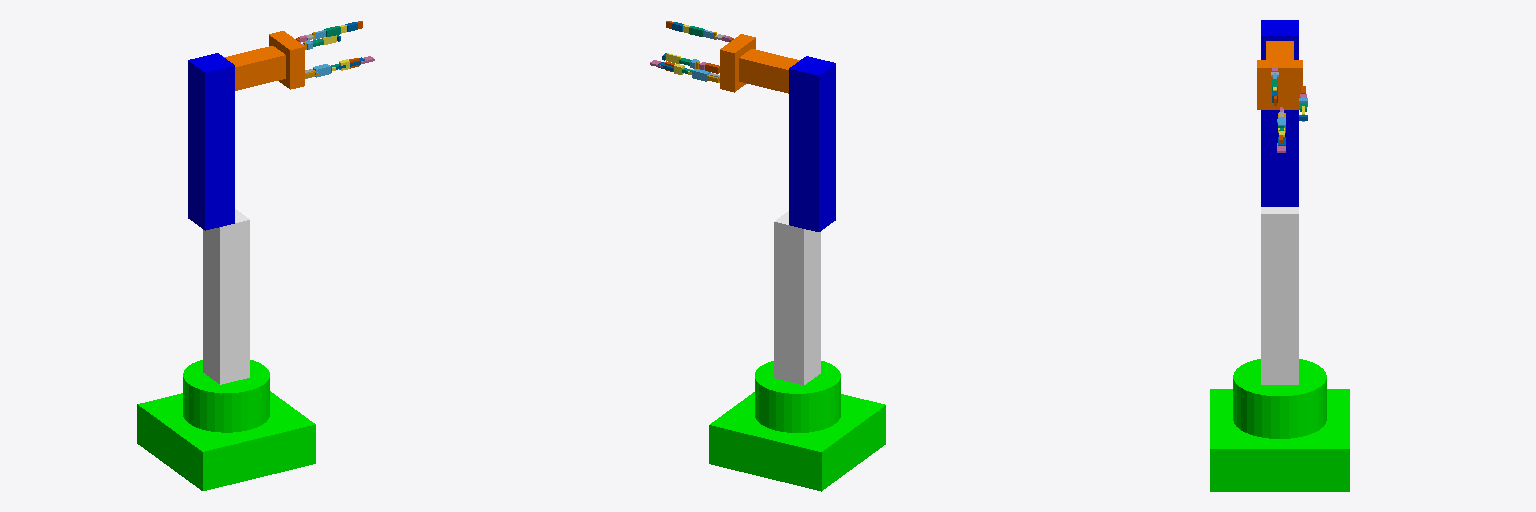
--- What the picture shows (computed from the rendered views, not written in the file) ---
Views: 3 orthographic renders of the robot side by side, from view 1: azimuth 30°, elevation 25°; view 2: azimuth 150°, elevation 25°; view 3: azimuth 270°, elevation 25°.
Model robot with 37 links and 36 joints (33 revolute, 1 continuous, 2 fixed), rooted at base_link, posed every joint at zero.
Links seen in each view (by area): view 1: base_link, arm_link, support_link, wrist_link, palm_link; view 2: base_link, arm_link, support_link, wrist_link, palm_link; view 3: base_link, support_link, arm_link, palm_link, wrist_link.
Boxes of the visible links, x1=… form: base_link: x1=137, y1=360, x2=315, y2=490; arm_link: x1=188, y1=53, x2=234, y2=230; support_link: x1=203, y1=209, x2=249, y2=384; wrist_link: x1=224, y1=46, x2=285, y2=90; palm_link: x1=269, y1=31, x2=304, y2=89; base_link: x1=709, y1=361, x2=885, y2=491; arm_link: x1=789, y1=56, x2=835, y2=231; support_link: x1=774, y1=211, x2=820, y2=385; wrist_link: x1=739, y1=49, x2=799, y2=93; palm_link: x1=720, y1=34, x2=755, y2=92; base_link: x1=1210, y1=359, x2=1349, y2=491; support_link: x1=1261, y1=207, x2=1298, y2=384; arm_link: x1=1261, y1=20, x2=1298, y2=206; palm_link: x1=1257, y1=60, x2=1302, y2=109; wrist_link: x1=1266, y1=41, x2=1293, y2=59.
Bounding box of the posed robot: 1.35 × 0.75 × 2.55 m (x, y, z).
Geometry: primitives only (box / cylinder / sphere), no mesh files.

The robot description file, URDF, robot "robot":
<?xml version='1.0' encoding='utf-8'?>
<robot name="robot">
  <link name="base_link">
    <visual>
      <origin xyz="0 0 0.125" rpy="0 0 0" />
      <geometry>
        <box size="0.75 0.75 0.25" />
      </geometry>
      <material name="green" />
    </visual>
    <visual>
      <origin xyz="0 0 0.375" rpy="0 0 0" />
      <geometry>
        <cylinder length="0.25" radius="0.25" />
      </geometry>
      <material name="green">
        <color rgba="0 1 0 1" />
      </material>
    </visual>
    <collision>
      <geometry>
        <box size="0.75 0.75 0.5" />
      </geometry>
    </collision>
    <inertial>
      <mass value="0.5" />
      <inertia ixx="0.034" ixy="0.0" ixz="0.0" iyy="0.034" iyz="0.0" izz="0.034" />
    </inertial>
  </link>
  <link name="support_link">
    <visual>
      <origin xyz="0 0 0.5" rpy="0 0 0" />
      <geometry>
        <box size="0.2 0.2 1" />
      </geometry>
      <material name="white">
        <color rgba="1 1 1 1" />
      </material>
    </visual>
    <collision>
      <geometry>
        <box size="0.2 0.2 1" />
      </geometry>
    </collision>
    <inertial>
      <mass value="0.1" />
      <inertia ixx="0.01" ixy="0.0" ixz="0.0" iyy="0.01" iyz="0.0" izz="0.01" />
    </inertial>
  </link>
  <joint name="support_joint" type="continuous">
    <origin xyz="0 0 0.5" rpy="0 0 0" />
    <parent link="base_link" />
    <child link="support_link" />
    <axis xyz="0 0 1" />
  </joint>
  <link name="arm_link">
    <visual>
      <origin xyz="0 0 0.5" rpy="0 0 0" />
      <geometry>
        <box size="0.2 0.2 1" />
      </geometry>
      <material name="blue">
        <color rgba="0 0 1 1" />
      </material>
    </visual>
    <collision>
      <geometry>
        <box size="0.2 0.2 1" />
      </geometry>
    </collision>
    <inertial>
      <mass value="0.1" />
      <inertia ixx="0.01" ixy="0.0" ixz="0.0" iyy="0.01" iyz="0.0" izz="0.01" />
    </inertial>
  </link>
  <joint name="arm_joint" type="revolute">
    <origin xyz="-0.1 0 1" rpy="0 0 0" />
    <parent link="support_link" />
    <child link="arm_link" />
    <axis xyz="0 1 0" />
    <limit lower="-3.14" upper="3.14" effort="1.0" velocity="1.0" />
  </joint>
  <link name="wrist_link">
    <visual>
      <origin xyz="0 0 0.25" rpy="0 0 0" />
      <geometry>
        <box size="0.15 0.15 0.5" />
      </geometry>
      <material name="orange">
        <color rgba="1 0.5 0 1" />
      </material>
    </visual>
    <collision>
      <geometry>
        <box size="0.15 0.15 0.5" />
      </geometry>
    </collision>
    <inertial>
      <mass value="0.1" />
      <inertia ixx="0.01" ixy="0.0" ixz="0.0" iyy="0.01" iyz="0.0" izz="0.01" />
    </inertial>
  </link>
  <joint name="wrist_joint" type="fixed">
    <origin xyz="0 0 0.9" rpy="0 1.571 0" />
    <parent link="arm_link" />
    <child link="wrist_link" />
  </joint>
  <link name="palm_link">
    <visual>
      <origin xyz="0 0 0.05" rpy="0 0 0" />
      <geometry>
        <box size="0.25 0.25 0.1" />
      </geometry>
      <material name="orange" />
    </visual>
    <collision>
      <geometry>
        <box size="0.25 0.25 0.1" />
      </geometry>
    </collision>
    <inertial>
      <mass value="0.1" />
      <inertia ixx="0.01" ixy="0.0" ixz="0.0" iyy="0.01" iyz="0.0" izz="0.01" />
    </inertial>
  </link>
  <joint name="palm_joint" type="fixed">
    <origin xyz="0 0 0.45" rpy="0 0 0" />
    <parent link="wrist_link" />
    <child link="palm_link" />
  </joint>
  <link name="finger_link_0_0">
    <visual>
      <origin xyz="0 0 0.0445" rpy="0 0 0" />
      <geometry>
        <box size="0.04 0.029 0.089" />
      </geometry>
    </visual>
    <collision>
      <geometry>
        <box size="0.04 0.029 0.089" />
      </geometry>
    </collision>
    <inertial>
      <mass value="0.031" />
      <inertia ixx="0.0" iyy="0.0" izz="0.0" ixy="0" ixz="0" iyz="0" />
    </inertial>
  </link>
  <joint name="finger_joint_palm_link_to_finger_link_0_0" type="revolute">
    <origin xyz="0.004 0.125 0.1" rpy="0 0 0" />
    <parent link="palm_link" />
    <child link="finger_link_0_0" />
    <axis xyz="-1.0 0.0 0.0" />
    <limit lower="-3.142" upper="3.142" effort="10" velocity="10" />
  </joint>
  <link name="finger_link_0_1">
    <visual>
      <origin xyz="0 0 0.0165" rpy="0 0 0" />
      <geometry>
        <box size="0.032 0.041 0.033" />
      </geometry>
    </visual>
    <collision>
      <geometry>
        <box size="0.032 0.041 0.033" />
      </geometry>
    </collision>
    <inertial>
      <mass value="0.013" />
      <inertia ixx="0.0" iyy="0.0" izz="0.0" ixy="0" ixz="0" iyz="0" />
    </inertial>
  </link>
  <joint name="finger_joint_finger_link_0_0_to_finger_link_0_1" type="revolute">
    <origin xyz="0.0 0.0 0.089" rpy="0 0 0" />
    <parent link="finger_link_0_0" />
    <child link="finger_link_0_1" />
    <axis xyz="0.0 1.0 0.0" />
    <limit lower="-3.142" upper="3.142" effort="10" velocity="10" />
  </joint>
  <link name="finger_link_0_2">
    <visual>
      <origin xyz="0 0 0.0065" rpy="0 0 0" />
      <geometry>
        <box size="0.024 0.014 0.013" />
      </geometry>
    </visual>
    <collision>
      <geometry>
        <box size="0.024 0.014 0.013" />
      </geometry>
    </collision>
    <inertial>
      <mass value="0.001" />
      <inertia ixx="0.0" iyy="0.0" izz="0.0" ixy="0" ixz="0" iyz="0" />
    </inertial>
  </link>
  <joint name="finger_joint_finger_link_0_1_to_finger_link_0_2" type="revolute">
    <origin xyz="0.0 0.0 0.033" rpy="0 0 0" />
    <parent link="finger_link_0_1" />
    <child link="finger_link_0_2" />
    <axis xyz="1.0 0.0 0.0" />
    <limit lower="-3.142" upper="3.142" effort="10" velocity="10" />
  </joint>
  <link name="finger_link_0_3">
    <visual>
      <origin xyz="0 0 0.0065" rpy="0 0 0" />
      <geometry>
        <box size="0.04 0.025 0.013" />
      </geometry>
    </visual>
    <collision>
      <geometry>
        <box size="0.04 0.025 0.013" />
      </geometry>
    </collision>
    <inertial>
      <mass value="0.004" />
      <inertia ixx="0.0" iyy="0.0" izz="0.0" ixy="0" ixz="0" iyz="0" />
    </inertial>
  </link>
  <joint name="finger_joint_finger_link_0_2_to_finger_link_0_3" type="revolute">
    <origin xyz="0.0 0.0 0.013" rpy="0 0 0" />
    <parent link="finger_link_0_2" />
    <child link="finger_link_0_3" />
    <axis xyz="0.0 1.0 0.0" />
    <limit lower="-3.142" upper="3.142" effort="10" velocity="10" />
  </joint>
  <link name="finger_link_0_4">
    <visual>
      <origin xyz="0 0 0.0175" rpy="0 0 0" />
      <geometry>
        <box size="0.037 0.048 0.035" />
      </geometry>
    </visual>
    <collision>
      <geometry>
        <box size="0.037 0.048 0.035" />
      </geometry>
    </collision>
    <inertial>
      <mass value="0.019" />
      <inertia ixx="0.0" iyy="0.0" izz="0.0" ixy="0" ixz="0" iyz="0" />
    </inertial>
  </link>
  <joint name="finger_joint_finger_link_0_3_to_finger_link_0_4" type="revolute">
    <origin xyz="0.0 0.0 0.013" rpy="0 0 0" />
    <parent link="finger_link_0_3" />
    <child link="finger_link_0_4" />
    <axis xyz="1.0 1.0 0.0" />
    <limit lower="-3.142" upper="3.142" effort="10" velocity="10" />
  </joint>
  <link name="finger_link_0_5">
    <visual>
      <origin xyz="0 0 0.038" rpy="0 0 0" />
      <geometry>
        <box size="0.021 0.039 0.076" />
      </geometry>
    </visual>
    <collision>
      <geometry>
        <box size="0.021 0.039 0.076" />
      </geometry>
    </collision>
    <inertial>
      <mass value="0.019" />
      <inertia ixx="0.0" iyy="0.0" izz="0.0" ixy="0" ixz="0" iyz="0" />
    </inertial>
  </link>
  <joint name="finger_joint_finger_link_0_4_to_finger_link_0_5" type="revolute">
    <origin xyz="0.0 0.0 0.035" rpy="0 0 0" />
    <parent link="finger_link_0_4" />
    <child link="finger_link_0_5" />
    <axis xyz="0.0 1.0 0.0" />
    <limit lower="-3.142" upper="3.142" effort="10" velocity="10" />
  </joint>
  <link name="finger_link_0_6">
    <visual>
      <origin xyz="0 0 0.0465" rpy="0 0 0" />
      <geometry>
        <box size="0.046 0.012 0.093" />
      </geometry>
    </visual>
    <collision>
      <geometry>
        <box size="0.046 0.012 0.093" />
      </geometry>
    </collision>
    <inertial>
      <mass value="0.015" />
      <inertia ixx="0.0" iyy="0.0" izz="0.0" ixy="0" ixz="0" iyz="0" />
    </inertial>
  </link>
  <joint name="finger_joint_finger_link_0_5_to_finger_link_0_6" type="revolute">
    <origin xyz="0.0 0.0 0.076" rpy="0 0 0" />
    <parent link="finger_link_0_5" />
    <child link="finger_link_0_6" />
    <axis xyz="0.0 1.0 0.0" />
    <limit lower="-3.142" upper="3.142" effort="10" velocity="10" />
  </joint>
  <link name="finger_link_0_7">
    <visual>
      <origin xyz="0 0 0.0085" rpy="0 0 0" />
      <geometry>
        <box size="0.027 0.048 0.017" />
      </geometry>
    </visual>
    <collision>
      <geometry>
        <box size="0.027 0.048 0.017" />
      </geometry>
    </collision>
    <inertial>
      <mass value="0.007" />
      <inertia ixx="0.0" iyy="0.0" izz="0.0" ixy="0" ixz="0" iyz="0" />
    </inertial>
  </link>
  <joint name="finger_joint_finger_link_0_6_to_finger_link_0_7" type="revolute">
    <origin xyz="0.0 0.0 0.093" rpy="0 0 0" />
    <parent link="finger_link_0_6" />
    <child link="finger_link_0_7" />
    <axis xyz="1.0 1.0 0.0" />
    <limit lower="-3.142" upper="3.142" effort="10" velocity="10" />
  </joint>
  <link name="finger_link_1_0">
    <visual>
      <origin xyz="0 0 0.0075" rpy="0 0 0" />
      <geometry>
        <box size="0.013 0.028 0.015" />
      </geometry>
    </visual>
    <collision>
      <geometry>
        <box size="0.013 0.028 0.015" />
      </geometry>
    </collision>
    <inertial>
      <mass value="0.002" />
      <inertia ixx="0.0" iyy="0.0" izz="0.0" ixy="0" ixz="0" iyz="0" />
    </inertial>
  </link>
  <joint name="finger_joint_palm_link_to_finger_link_1_0" type="revolute">
    <origin xyz="-0.125 -0.026 0.1" rpy="0 0 0" />
    <parent link="palm_link" />
    <child link="finger_link_1_0" />
    <axis xyz="0.0 -1.0 0.0" />
    <limit lower="-3.142" upper="3.142" effort="10" velocity="10" />
  </joint>
  <link name="finger_link_1_1">
    <visual>
      <origin xyz="0 0 0.023" rpy="0 0 0" />
      <geometry>
        <box size="0.025 0.028 0.046" />
      </geometry>
    </visual>
    <collision>
      <geometry>
        <box size="0.025 0.028 0.046" />
      </geometry>
    </collision>
    <inertial>
      <mass value="0.01" />
      <inertia ixx="0.0" iyy="0.0" izz="0.0" ixy="0" ixz="0" iyz="0" />
    </inertial>
  </link>
  <joint name="finger_joint_finger_link_1_0_to_finger_link_1_1" type="revolute">
    <origin xyz="0.0 0.0 0.015" rpy="0 0 0" />
    <parent link="finger_link_1_0" />
    <child link="finger_link_1_1" />
    <axis xyz="1.0 1.0 0.0" />
    <limit lower="-3.142" upper="3.142" effort="10" velocity="10" />
  </joint>
  <link name="finger_link_1_2">
    <visual>
      <origin xyz="0 0 0.023" rpy="0 0 0" />
      <geometry>
        <box size="0.012 0.044 0.046" />
      </geometry>
    </visual>
    <collision>
      <geometry>
        <box size="0.012 0.044 0.046" />
      </geometry>
    </collision>
    <inertial>
      <mass value="0.007" />
      <inertia ixx="0.0" iyy="0.0" izz="0.0" ixy="0" ixz="0" iyz="0" />
    </inertial>
  </link>
  <joint name="finger_joint_finger_link_1_1_to_finger_link_1_2" type="revolute">
    <origin xyz="0.0 0.0 0.046" rpy="0 0 0" />
    <parent link="finger_link_1_1" />
    <child link="finger_link_1_2" />
    <axis xyz="1.0 0.0 0.0" />
    <limit lower="-3.142" upper="3.142" effort="10" velocity="10" />
  </joint>
  <link name="finger_link_1_3">
    <visual>
      <origin xyz="0 0 0.007" rpy="0 0 0" />
      <geometry>
        <box size="0.043 0.013 0.014" />
      </geometry>
    </visual>
    <collision>
      <geometry>
        <box size="0.043 0.013 0.014" />
      </geometry>
    </collision>
    <inertial>
      <mass value="0.002" />
      <inertia ixx="0.0" iyy="0.0" izz="0.0" ixy="0" ixz="0" iyz="0" />
    </inertial>
  </link>
  <joint name="finger_joint_finger_link_1_2_to_finger_link_1_3" type="revolute">
    <origin xyz="0.0 0.0 0.046" rpy="0 0 0" />
    <parent link="finger_link_1_2" />
    <child link="finger_link_1_3" />
    <axis xyz="1.0 0.0 0.0" />
    <limit lower="-3.142" upper="3.142" effort="10" velocity="10" />
  </joint>
  <link name="finger_link_1_4">
    <visual>
      <origin xyz="0 0 0.035" rpy="0 0 0" />
      <geometry>
        <box size="0.037 0.019 0.07" />
      </geometry>
    </visual>
    <collision>
      <geometry>
        <box size="0.037 0.019 0.07" />
      </geometry>
    </collision>
    <inertial>
      <mass value="0.015" />
      <inertia ixx="0.0" iyy="0.0" izz="0.0" ixy="0" ixz="0" iyz="0" />
    </inertial>
  </link>
  <joint name="finger_joint_finger_link_1_3_to_finger_link_1_4" type="revolute">
    <origin xyz="0.0 0.0 0.014" rpy="0 0 0" />
    <parent link="finger_link_1_3" />
    <child link="finger_link_1_4" />
    <axis xyz="0.0 1.0 0.0" />
    <limit lower="-3.142" upper="3.142" effort="10" velocity="10" />
  </joint>
  <link name="finger_link_1_5">
    <visual>
      <origin xyz="0 0 0.0465" rpy="0 0 0" />
      <geometry>
        <box size="0.043 0.029 0.093" />
      </geometry>
    </visual>
    <collision>
      <geometry>
        <box size="0.043 0.029 0.093" />
      </geometry>
    </collision>
    <inertial>
      <mass value="0.035" />
      <inertia ixx="0.0" iyy="0.0" izz="0.0" ixy="0" ixz="0" iyz="0" />
    </inertial>
  </link>
  <joint name="finger_joint_finger_link_1_4_to_finger_link_1_5" type="revolute">
    <origin xyz="0.0 0.0 0.07" rpy="0 0 0" />
    <parent link="finger_link_1_4" />
    <child link="finger_link_1_5" />
    <axis xyz="1.0 1.0 0.0" />
    <limit lower="-3.142" upper="3.142" effort="10" velocity="10" />
  </joint>
  <link name="finger_link_1_6">
    <visual>
      <origin xyz="0 0 0.022" rpy="0 0 0" />
      <geometry>
        <box size="0.04 0.022 0.044" />
      </geometry>
    </visual>
    <collision>
      <geometry>
        <box size="0.04 0.022 0.044" />
      </geometry>
    </collision>
    <inertial>
      <mass value="0.012" />
      <inertia ixx="0.0" iyy="0.0" izz="0.0" ixy="0" ixz="0" iyz="0" />
    </inertial>
  </link>
  <joint name="finger_joint_finger_link_1_5_to_finger_link_1_6" type="revolute">
    <origin xyz="0.0 0.0 0.093" rpy="0 0 0" />
    <parent link="finger_link_1_5" />
    <child link="finger_link_1_6" />
    <axis xyz="0.0 1.0 0.0" />
    <limit lower="-3.142" upper="3.142" effort="10" velocity="10" />
  </joint>
  <link name="finger_link_1_7">
    <visual>
      <origin xyz="0 0 0.0355" rpy="0 0 0" />
      <geometry>
        <box size="0.039 0.03 0.071" />
      </geometry>
    </visual>
    <collision>
      <geometry>
        <box size="0.039 0.03 0.071" />
      </geometry>
    </collision>
    <inertial>
      <mass value="0.025" />
      <inertia ixx="0.0" iyy="0.0" izz="0.0" ixy="0" ixz="0" iyz="0" />
    </inertial>
  </link>
  <joint name="finger_joint_finger_link_1_6_to_finger_link_1_7" type="revolute">
    <origin xyz="0.0 0.0 0.044" rpy="0 0 0" />
    <parent link="finger_link_1_6" />
    <child link="finger_link_1_7" />
    <axis xyz="1.0 0.0 0.0" />
    <limit lower="-3.142" upper="3.142" effort="10" velocity="10" />
  </joint>
  <link name="finger_link_1_8">
    <visual>
      <origin xyz="0 0 0.019" rpy="0 0 0" />
      <geometry>
        <box size="0.041 0.017 0.038" />
      </geometry>
    </visual>
    <collision>
      <geometry>
        <box size="0.041 0.017 0.038" />
      </geometry>
    </collision>
    <inertial>
      <mass value="0.008" />
      <inertia ixx="0.0" iyy="0.0" izz="0.0" ixy="0" ixz="0" iyz="0" />
    </inertial>
  </link>
  <joint name="finger_joint_finger_link_1_7_to_finger_link_1_8" type="revolute">
    <origin xyz="0.0 0.0 0.071" rpy="0 0 0" />
    <parent link="finger_link_1_7" />
    <child link="finger_link_1_8" />
    <axis xyz="1.0 0.0 0.0" />
    <limit lower="-3.142" upper="3.142" effort="10" velocity="10" />
  </joint>
  <link name="finger_link_2_0">
    <visual>
      <origin xyz="0 0 0.032" rpy="0 0 0" />
      <geometry>
        <box size="0.041 0.013 0.064" />
      </geometry>
    </visual>
    <collision>
      <geometry>
        <box size="0.041 0.013 0.064" />
      </geometry>
    </collision>
    <inertial>
      <mass value="0.01" />
      <inertia ixx="0.0" iyy="0.0" izz="0.0" ixy="0" ixz="0" iyz="0" />
    </inertial>
  </link>
  <joint name="finger_joint_palm_link_to_finger_link_2_0" type="revolute">
    <origin xyz="0.125 0.007 0.1" rpy="0 0 0" />
    <parent link="palm_link" />
    <child link="finger_link_2_0" />
    <axis xyz="0.0 1.0 0.0" />
    <limit lower="-3.142" upper="3.142" effort="10" velocity="10" />
  </joint>
  <link name="finger_link_2_1">
    <visual>
      <origin xyz="0 0 0.033" rpy="0 0 0" />
      <geometry>
        <box size="0.039 0.025 0.066" />
      </geometry>
    </visual>
    <collision>
      <geometry>
        <box size="0.039 0.025 0.066" />
      </geometry>
    </collision>
    <inertial>
      <mass value="0.019" />
      <inertia ixx="0.0" iyy="0.0" izz="0.0" ixy="0" ixz="0" iyz="0" />
    </inertial>
  </link>
  <joint name="finger_joint_finger_link_2_0_to_finger_link_2_1" type="revolute">
    <origin xyz="0.0 0.0 0.064" rpy="0 0 0" />
    <parent link="finger_link_2_0" />
    <child link="finger_link_2_1" />
    <axis xyz="1.0 0.0 0.0" />
    <limit lower="-3.142" upper="3.142" effort="10" velocity="10" />
  </joint>
  <link name="finger_link_2_2">
    <visual>
      <origin xyz="0 0 0.0095" rpy="0 0 0" />
      <geometry>
        <box size="0.014 0.05 0.019" />
      </geometry>
    </visual>
    <collision>
      <geometry>
        <box size="0.014 0.05 0.019" />
      </geometry>
    </collision>
    <inertial>
      <mass value="0.004" />
      <inertia ixx="0.0" iyy="0.0" izz="0.0" ixy="0" ixz="0" iyz="0" />
    </inertial>
  </link>
  <joint name="finger_joint_finger_link_2_1_to_finger_link_2_2" type="revolute">
    <origin xyz="0.0 0.0 0.066" rpy="0 0 0" />
    <parent link="finger_link_2_1" />
    <child link="finger_link_2_2" />
    <axis xyz="1.0 0.0 0.0" />
    <limit lower="-3.142" upper="3.142" effort="10" velocity="10" />
  </joint>
  <link name="finger_link_2_3">
    <visual>
      <origin xyz="0 0 0.031" rpy="0 0 0" />
      <geometry>
        <box size="0.037 0.034 0.062" />
      </geometry>
    </visual>
    <collision>
      <geometry>
        <box size="0.037 0.034 0.062" />
      </geometry>
    </collision>
    <inertial>
      <mass value="0.023" />
      <inertia ixx="0.0" iyy="0.0" izz="0.0" ixy="0" ixz="0" iyz="0" />
    </inertial>
  </link>
  <joint name="finger_joint_finger_link_2_2_to_finger_link_2_3" type="revolute">
    <origin xyz="0.0 0.0 0.019" rpy="0 0 0" />
    <parent link="finger_link_2_2" />
    <child link="finger_link_2_3" />
    <axis xyz="0.0 1.0 0.0" />
    <limit lower="-3.142" upper="3.142" effort="10" velocity="10" />
  </joint>
  <link name="finger_link_2_4">
    <visual>
      <origin xyz="0 0 0.0155" rpy="0 0 0" />
      <geometry>
        <box size="0.038 0.032 0.031" />
      </geometry>
    </visual>
    <collision>
      <geometry>
        <box size="0.038 0.032 0.031" />
      </geometry>
    </collision>
    <inertial>
      <mass value="0.011" />
      <inertia ixx="0.0" iyy="0.0" izz="0.0" ixy="0" ixz="0" iyz="0" />
    </inertial>
  </link>
  <joint name="finger_joint_finger_link_2_3_to_finger_link_2_4" type="revolute">
    <origin xyz="0.0 0.0 0.062" rpy="0 0 0" />
    <parent link="finger_link_2_3" />
    <child link="finger_link_2_4" />
    <axis xyz="1.0 0.0 0.0" />
    <limit lower="-3.142" upper="3.142" effort="10" velocity="10" />
  </joint>
  <link name="finger_link_2_5">
    <visual>
      <origin xyz="0 0 0.0135" rpy="0 0 0" />
      <geometry>
        <box size="0.019 0.038 0.027" />
      </geometry>
    </visual>
    <collision>
      <geometry>
        <box size="0.019 0.038 0.027" />
      </geometry>
    </collision>
    <inertial>
      <mass value="0.006" />
      <inertia ixx="0.0" iyy="0.0" izz="0.0" ixy="0" ixz="0" iyz="0" />
    </inertial>
  </link>
  <joint name="finger_joint_finger_link_2_4_to_finger_link_2_5" type="revolute">
    <origin xyz="0.0 0.0 0.031" rpy="0 0 0" />
    <parent link="finger_link_2_4" />
    <child link="finger_link_2_5" />
    <axis xyz="1.0 0.0 0.0" />
    <limit lower="-3.142" upper="3.142" effort="10" velocity="10" />
  </joint>
  <link name="finger_link_2_6">
    <visual>
      <origin xyz="0 0 0.0345" rpy="0 0 0" />
      <geometry>
        <box size="0.017 0.029 0.069" />
      </geometry>
    </visual>
    <collision>
      <geometry>
        <box size="0.017 0.029 0.069" />
      </geometry>
    </collision>
    <inertial>
      <mass value="0.01" />
      <inertia ixx="0.0" iyy="0.0" izz="0.0" ixy="0" ixz="0" iyz="0" />
    </inertial>
  </link>
  <joint name="finger_joint_finger_link_2_5_to_finger_link_2_6" type="revolute">
    <origin xyz="0.0 0.0 0.027" rpy="0 0 0" />
    <parent link="finger_link_2_5" />
    <child link="finger_link_2_6" />
    <axis xyz="1.0 0.0 0.0" />
    <limit lower="-3.142" upper="3.142" effort="10" velocity="10" />
  </joint>
  <link name="finger_link_2_7">
    <visual>
      <origin xyz="0 0 0.0455" rpy="0 0 0" />
      <geometry>
        <box size="0.047 0.022 0.091" />
      </geometry>
    </visual>
    <collision>
      <geometry>
        <box size="0.047 0.022 0.091" />
      </geometry>
    </collision>
    <inertial>
      <mass value="0.028" />
      <inertia ixx="0.0" iyy="0.0" izz="0.0" ixy="0" ixz="0" iyz="0" />
    </inertial>
  </link>
  <joint name="finger_joint_finger_link_2_6_to_finger_link_2_7" type="revolute">
    <origin xyz="0.0 0.0 0.069" rpy="0 0 0" />
    <parent link="finger_link_2_6" />
    <child link="finger_link_2_7" />
    <axis xyz="0.0 1.0 0.0" />
    <limit lower="-3.142" upper="3.142" effort="10" velocity="10" />
  </joint>
  <link name="finger_link_2_8">
    <visual>
      <origin xyz="0 0 0.046" rpy="0 0 0" />
      <geometry>
        <box size="0.014 0.048 0.092" />
      </geometry>
    </visual>
    <collision>
      <geometry>
        <box size="0.014 0.048 0.092" />
      </geometry>
    </collision>
    <inertial>
      <mass value="0.019" />
      <inertia ixx="0.0" iyy="0.0" izz="0.0" ixy="0" ixz="0" iyz="0" />
    </inertial>
  </link>
  <joint name="finger_joint_finger_link_2_7_to_finger_link_2_8" type="revolute">
    <origin xyz="0.0 0.0 0.091" rpy="0 0 0" />
    <parent link="finger_link_2_7" />
    <child link="finger_link_2_8" />
    <axis xyz="1.0 0.0 0.0" />
    <limit lower="-3.142" upper="3.142" effort="10" velocity="10" />
  </joint>
  <link name="finger_link_3_0">
    <visual>
      <origin xyz="0 0 0.031" rpy="0 0 0" />
      <geometry>
        <box size="0.014 0.018 0.062" />
      </geometry>
    </visual>
    <collision>
      <geometry>
        <box size="0.014 0.018 0.062" />
      </geometry>
    </collision>
    <inertial>
      <mass value="0.005" />
      <inertia ixx="0.0" iyy="0.0" izz="0.0" ixy="0" ixz="0" iyz="0" />
    </inertial>
  </link>
  <joint name="finger_joint_palm_link_to_finger_link_3_0" type="revolute">
    <origin xyz="0.125 0.011 0.1" rpy="0 0 0" />
    <parent link="palm_link" />
    <child link="finger_link_3_0" />
    <axis xyz="0.0 1.0 0.0" />
    <limit lower="-3.142" upper="3.142" effort="10" velocity="10" />
  </joint>
  <link name="finger_link_3_1">
    <visual>
      <origin xyz="0 0 0.038" rpy="0 0 0" />
      <geometry>
        <box size="0.028 0.046 0.076" />
      </geometry>
    </visual>
    <collision>
      <geometry>
        <box size="0.028 0.046 0.076" />
      </geometry>
    </collision>
    <inertial>
      <mass value="0.029" />
      <inertia ixx="0.0" iyy="0.0" izz="0.0" ixy="0" ixz="0" iyz="0" />
    </inertial>
  </link>
  <joint name="finger_joint_finger_link_3_0_to_finger_link_3_1" type="revolute">
    <origin xyz="0.0 0.0 0.062" rpy="0 0 0" />
    <parent link="finger_link_3_0" />
    <child link="finger_link_3_1" />
    <axis xyz="1.0 0.0 0.0" />
    <limit lower="-3.142" upper="3.142" effort="10" velocity="10" />
  </joint>
  <link name="finger_link_3_2">
    <visual>
      <origin xyz="0 0 0.048" rpy="0 0 0" />
      <geometry>
        <box size="0.049 0.043 0.096" />
      </geometry>
    </visual>
    <collision>
      <geometry>
        <box size="0.049 0.043 0.096" />
      </geometry>
    </collision>
    <inertial>
      <mass value="0.061" />
      <inertia ixx="0.0" iyy="0.0" izz="0.0" ixy="0" ixz="0" iyz="0" />
    </inertial>
  </link>
  <joint name="finger_joint_finger_link_3_1_to_finger_link_3_2" type="revolute">
    <origin xyz="0.0 0.0 0.076" rpy="0 0 0" />
    <parent link="finger_link_3_1" />
    <child link="finger_link_3_2" />
    <axis xyz="0.0 1.0 0.0" />
    <limit lower="-3.142" upper="3.142" effort="10" velocity="10" />
  </joint>
  <link name="finger_link_3_3">
    <visual>
      <origin xyz="0 0 0.037" rpy="0 0 0" />
      <geometry>
        <box size="0.022 0.023 0.074" />
      </geometry>
    </visual>
    <collision>
      <geometry>
        <box size="0.022 0.023 0.074" />
      </geometry>
    </collision>
    <inertial>
      <mass value="0.011" />
      <inertia ixx="0.0" iyy="0.0" izz="0.0" ixy="0" ixz="0" iyz="0" />
    </inertial>
  </link>
  <joint name="finger_joint_finger_link_3_2_to_finger_link_3_3" type="revolute">
    <origin xyz="0.0 0.0 0.096" rpy="0 0 0" />
    <parent link="finger_link_3_2" />
    <child link="finger_link_3_3" />
    <axis xyz="0.0 1.0 0.0" />
    <limit lower="-3.142" upper="3.142" effort="10" velocity="10" />
  </joint>
  <link name="finger_link_3_4">
    <visual>
      <origin xyz="0 0 0.028" rpy="0 0 0" />
      <geometry>
        <box size="0.049 0.032 0.056" />
      </geometry>
    </visual>
    <collision>
      <geometry>
        <box size="0.049 0.032 0.056" />
      </geometry>
    </collision>
    <inertial>
      <mass value="0.026" />
      <inertia ixx="0.0" iyy="0.0" izz="0.0" ixy="0" ixz="0" iyz="0" />
    </inertial>
  </link>
  <joint name="finger_joint_finger_link_3_3_to_finger_link_3_4" type="revolute">
    <origin xyz="0.0 0.0 0.074" rpy="0 0 0" />
    <parent link="finger_link_3_3" />
    <child link="finger_link_3_4" />
    <axis xyz="1.0 0.0 0.0" />
    <limit lower="-3.142" upper="3.142" effort="10" velocity="10" />
  </joint>
  <link name="finger_link_3_5">
    <visual>
      <origin xyz="0 0 0.0495" rpy="0 0 0" />
      <geometry>
        <box size="0.022 0.039 0.099" />
      </geometry>
    </visual>
    <collision>
      <geometry>
        <box size="0.022 0.039 0.099" />
      </geometry>
    </collision>
    <inertial>
      <mass value="0.025" />
      <inertia ixx="0.0" iyy="0.0" izz="0.0" ixy="0" ixz="0" iyz="0" />
    </inertial>
  </link>
  <joint name="finger_joint_finger_link_3_4_to_finger_link_3_5" type="revolute">
    <origin xyz="0.0 0.0 0.056" rpy="0 0 0" />
    <parent link="finger_link_3_4" />
    <child link="finger_link_3_5" />
    <axis xyz="0.0 1.0 0.0" />
    <limit lower="-3.142" upper="3.142" effort="10" velocity="10" />
  </joint>
</robot>
